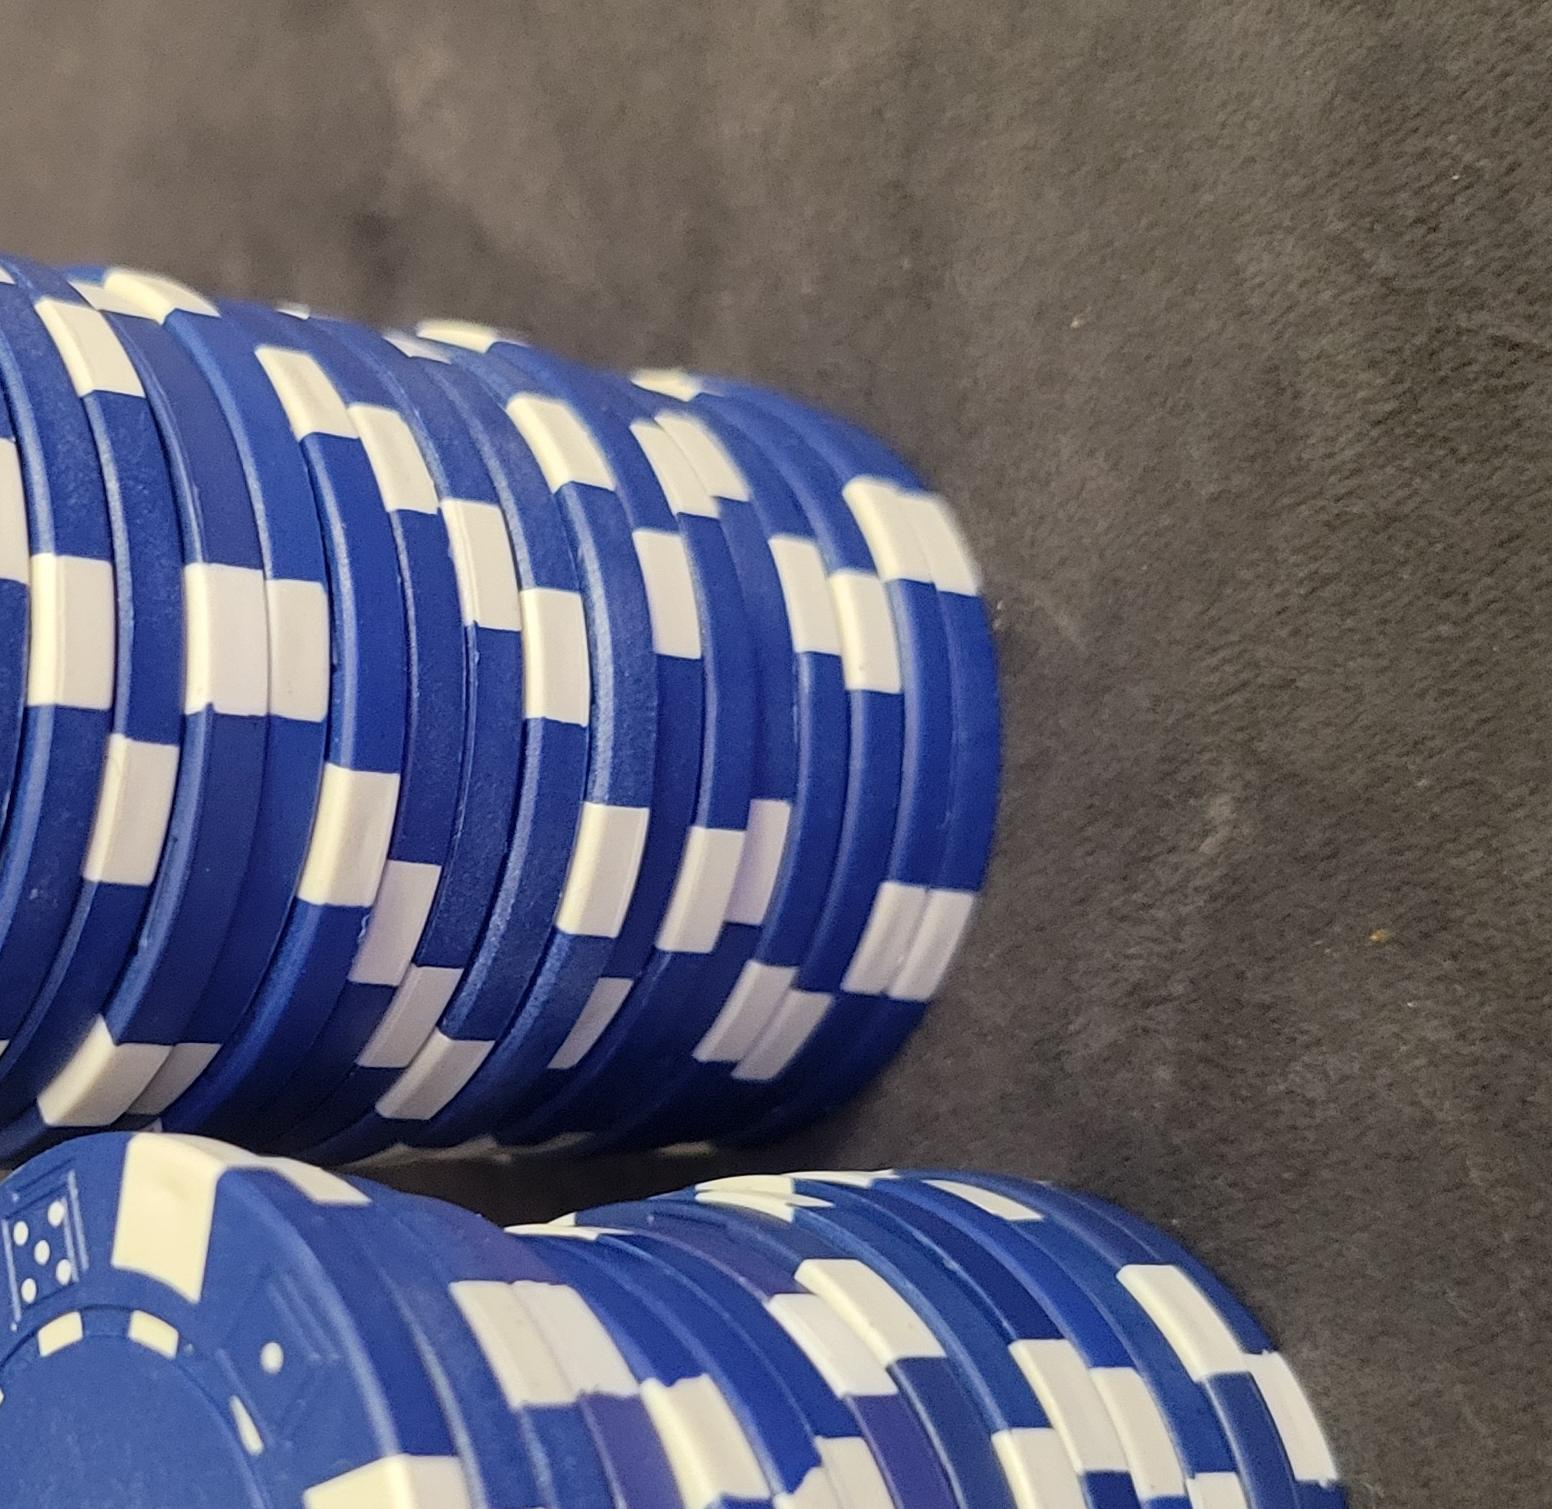Chip: (1, 170, 739, 1509)
